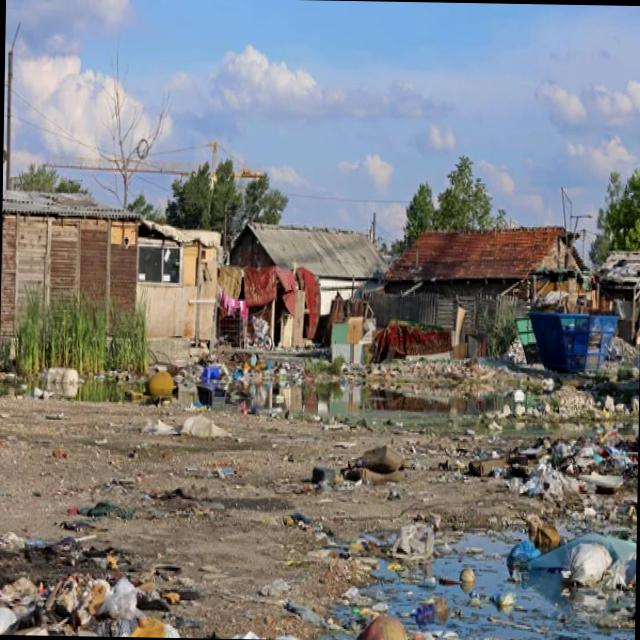garbage: (0, 383, 624, 640)
